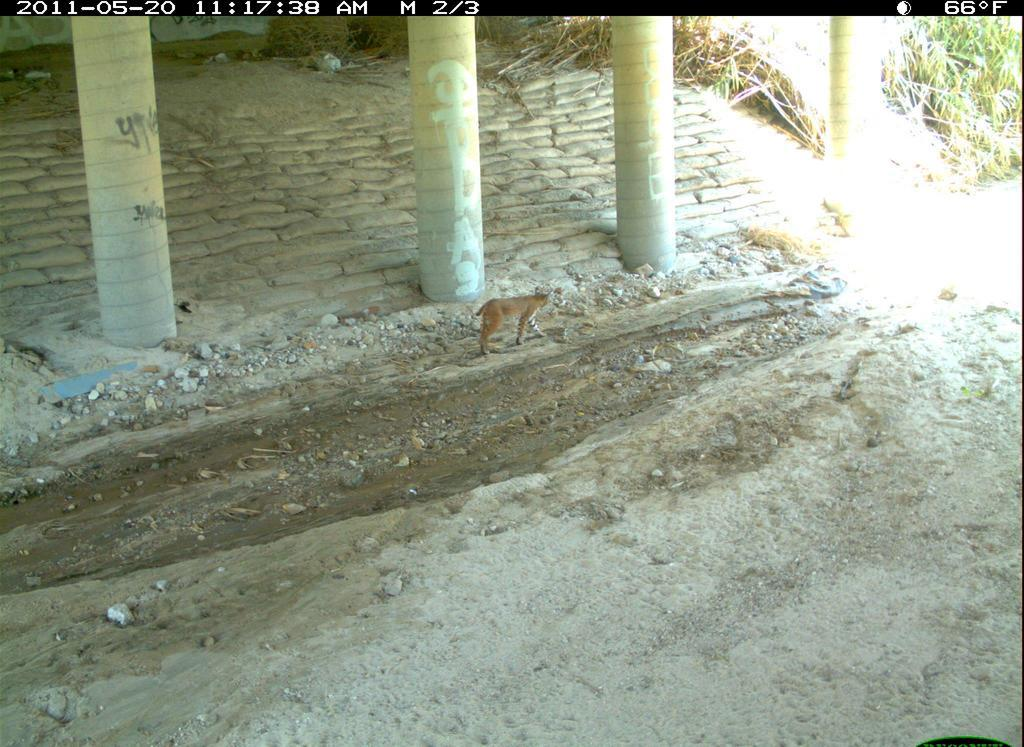bobcat: (943, 562, 1024, 723)
